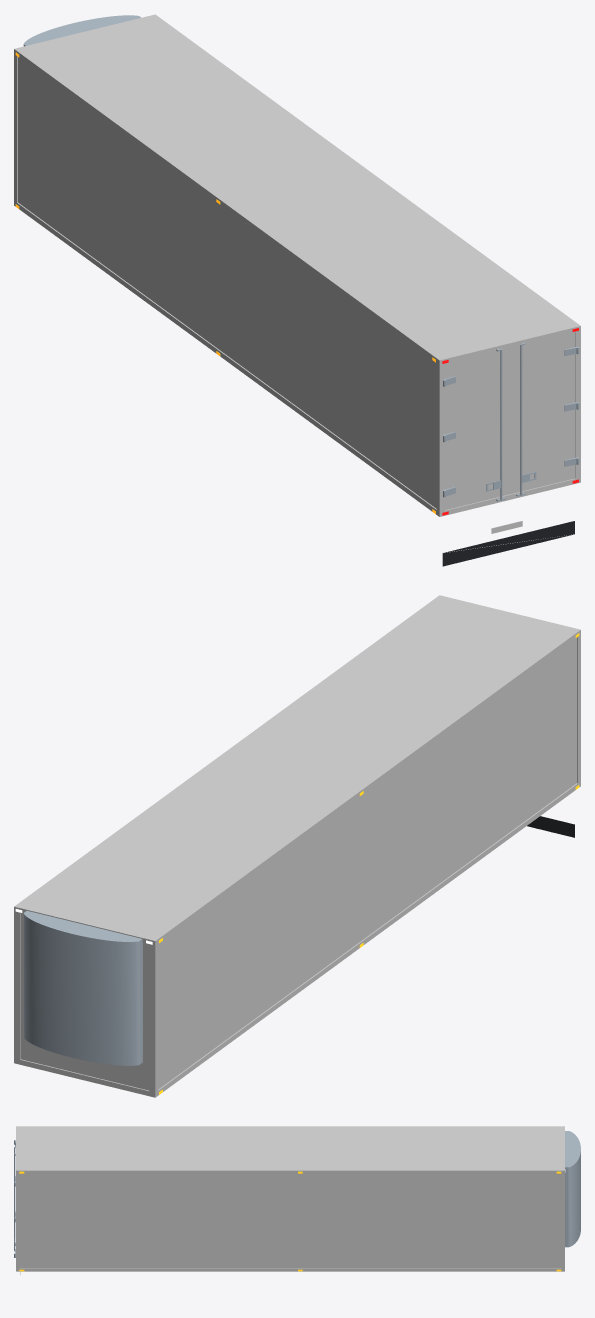
File: trailer.box.glb
3 views of the same model, one above another, from view 1: azimuth 30°, elevation 25°; view 2: azimuth 150°, elevation 25°; view 3: azimuth 270°, elevation 25° (orthographic). The views are drawn at different scales.
Parts seen in each view (by area): view 1: box01_nagel_auflieger_0_0, box01_ref map [sec,en_0_0, box01_tk [spec]_0_0; view 2: box01_nagel_auflieger_0_0, box01_tk [spec]_0_0; view 3: box01_nagel_auflieger_0_0, box01_tk [spec]_0_0.
Part boxes in pixels (x1,y1,x2,y2): box01_nagel_auflieger_0_0: (14,14,580,566); box01_ref map [sec,en_0_0: (443,342,579,501); box01_tk [spec]_0_0: (23,15,141,46); box01_nagel_auflieger_0_0: (14,595,580,1097); box01_tk [spec]_0_0: (23,911,142,1065); box01_nagel_auflieger_0_0: (16,1126,564,1274); box01_tk [spec]_0_0: (565,1131,580,1247).
Bounding box in the file's own units: 2.59 × 3.59 × 13.73.
